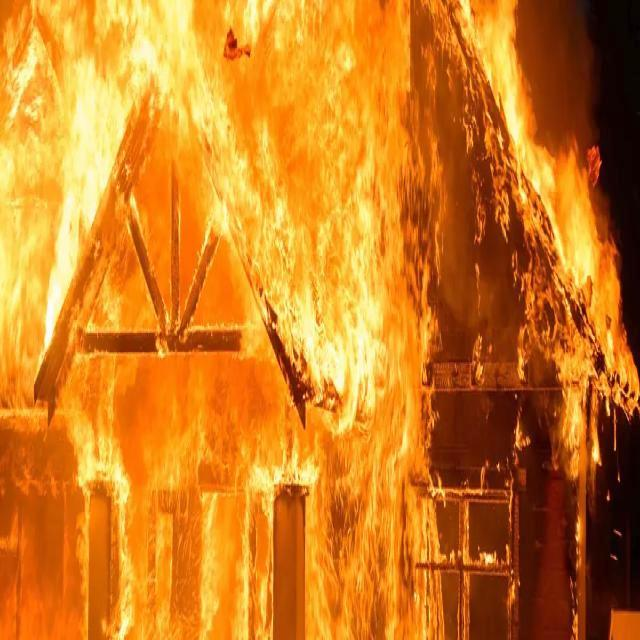fire: (5, 0, 431, 634), (428, 89, 634, 639), (473, 9, 639, 461)
